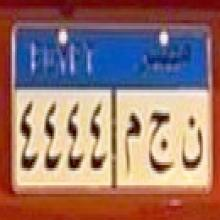4: (17, 98, 40, 176), (43, 96, 64, 171), (67, 97, 86, 174), (89, 98, 107, 176)
jeem: (147, 107, 175, 174)
meem: (121, 105, 145, 180)
noon: (179, 107, 204, 175)
